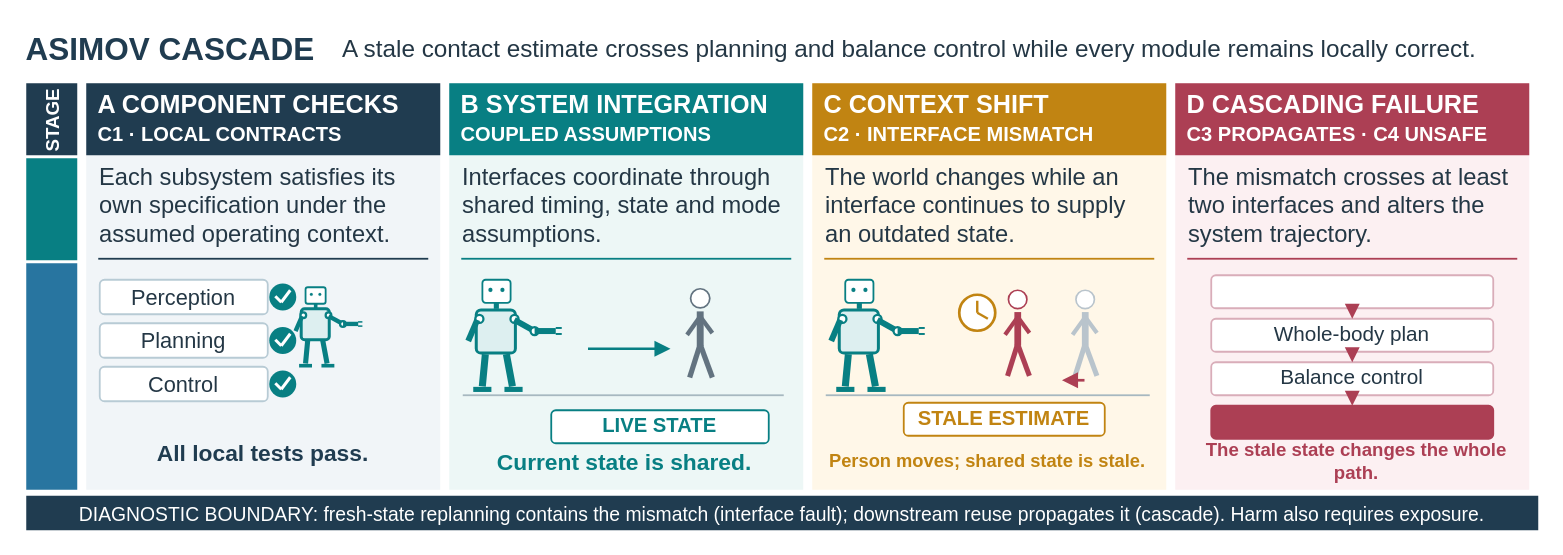
The diagram is 1563 pixels wide and 555 high, and some of its shapes have lost their labels. Here are the shapes that lost their labels. From the top down, the centre of each, then its label:
(x=51, y=209): LOGIC
(x=1351, y=291): Stale contact
(x=51, y=375): WORKED EXAMPLE
(x=1351, y=421): UNSAFE TRAJECTORY
